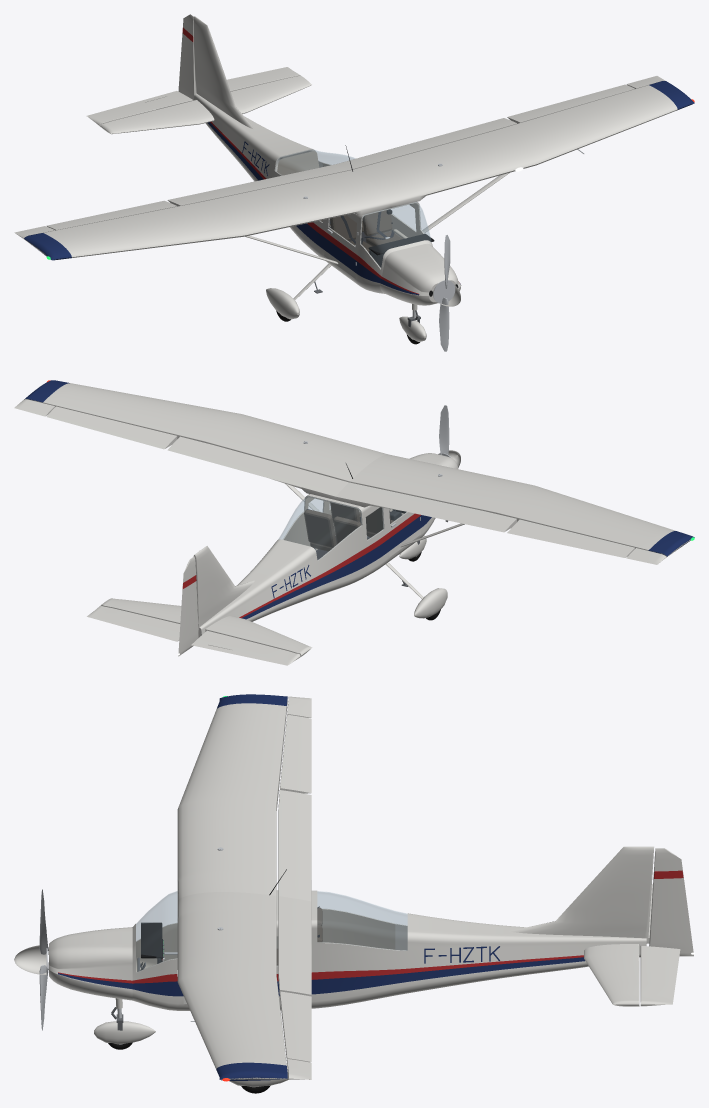
The model's file is cub.glb.
3 renders of one model, top to bottom at view 1: azimuth 30°, elevation 25°; view 2: azimuth 150°, elevation 25°; view 3: azimuth 270°, elevation 25°, orthographic. The views are drawn at different scales.
Visible parts, largest first — view 1: Aile_Gauche, Aile_Droite, Coque_Fuselage, Stabilisateur, Capot_Moteur, Pare_Brise, Derive, Gouverne_Profondeur, Volet_Gauche, Volet_Droite, Lunette_Arriere, Aileron_Gauche (+10 smaller); view 2: Aile_Gauche, Aile_Droite, Coque_Fuselage, Gouverne_Profondeur, Lunette_Arriere, Stabilisateur, Volet_Gauche, Volet_Droite, Derive, Aileron_Gauche, Aileron_Droite, Gouverne_Direction (+9 smaller); view 3: Aile_Droite, Aile_Gauche, Coque_Fuselage, Derive, Capot_Moteur, Lunette_Arriere, Gouverne_Direction, Garniture_Cabine, Bande_Fuselage_Bleue, Volet_Droite, Stabilisateur, Volet_Gauche (+10 smaller).
Boxes of the visible parts, left/top/right/bottom form: Aile_Gauche: left=336, top=76, right=677, bottom=207; Aile_Droite: left=14, top=164, right=390, bottom=257; Coque_Fuselage: left=194, top=93, right=432, bottom=293; Stabilisateur: left=100, top=75, right=311, bottom=134; Capot_Moteur: left=380, top=243, right=461, bottom=305; Pare_Brise: left=360, top=202, right=431, bottom=268; Derive: left=193, top=16, right=254, bottom=129; Gouverne_Profondeur: left=87, top=67, right=299, bottom=126; Volet_Gauche: left=370, top=118, right=516, bottom=160; Volet_Droite: left=167, top=171, right=315, bottom=206; Lunette_Arriere: left=275, top=149, right=355, bottom=175; Aileron_Gauche: left=507, top=84, right=634, bottom=123; Aile_Gauche: left=14, top=383, right=387, bottom=499; Aile_Droite: left=335, top=454, right=690, bottom=564; Coque_Fuselage: left=198, top=494, right=435, bottom=637; Gouverne_Profondeur: left=87, top=605, right=300, bottom=665; Lunette_Arriere: left=278, top=496, right=361, bottom=559; Stabilisateur: left=101, top=598, right=311, bottom=656; Volet_Gauche: left=167, top=436, right=314, bottom=488; Volet_Droite: left=369, top=489, right=516, bottom=532; Derive: left=193, top=546, right=254, bottom=629; Aileron_Gauche: left=46, top=406, right=177, bottom=449; Aileron_Droite: left=507, top=519, right=634, bottom=557; Gouverne_Direction: left=178, top=556, right=198, bottom=656; Aile_Droite: left=177, top=696, right=311, bottom=901; Aile_Gauche: left=177, top=892, right=311, bottom=1079; Coque_Fuselage: left=132, top=890, right=646, bottom=1010; Derive: left=509, top=846, right=653, bottom=941; Capot_Moteur: left=49, top=927, right=132, bottom=1000; Lunette_Arriere: left=317, top=891, right=407, bottom=950; Gouverne_Direction: left=649, top=848, right=693, bottom=956; Garniture_Cabine: left=136, top=909, right=395, bottom=972; Bande_Fuselage_Bleue: left=132, top=957, right=584, bottom=996; Volet_Droite: left=278, top=790, right=311, bottom=879; Stabilisateur: left=584, top=944, right=639, bottom=1006; Volet_Gauche: left=278, top=915, right=311, bottom=996.
Size of what is drawn, in the model's own units: 11.06 by 2.72 by 8.3.
